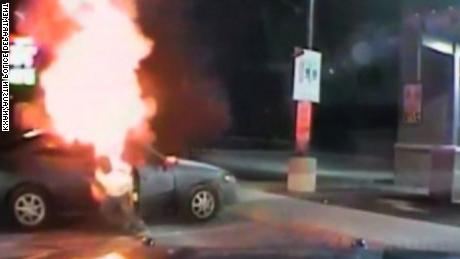fire: (23, 4, 158, 220)
